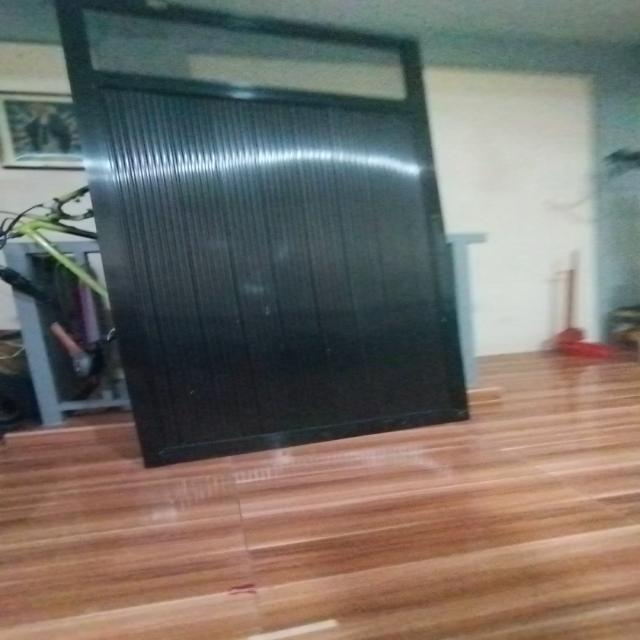door: (53, 0, 476, 465)
